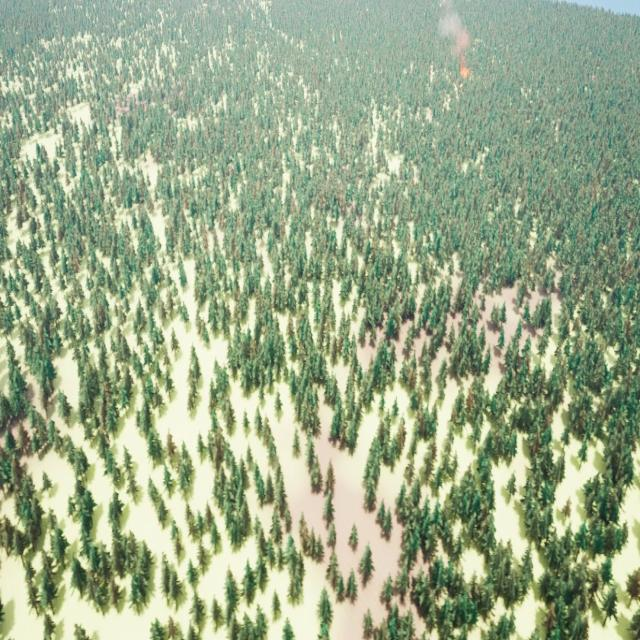fire: (459, 60, 471, 78)
smoke: (439, 0, 476, 62)
